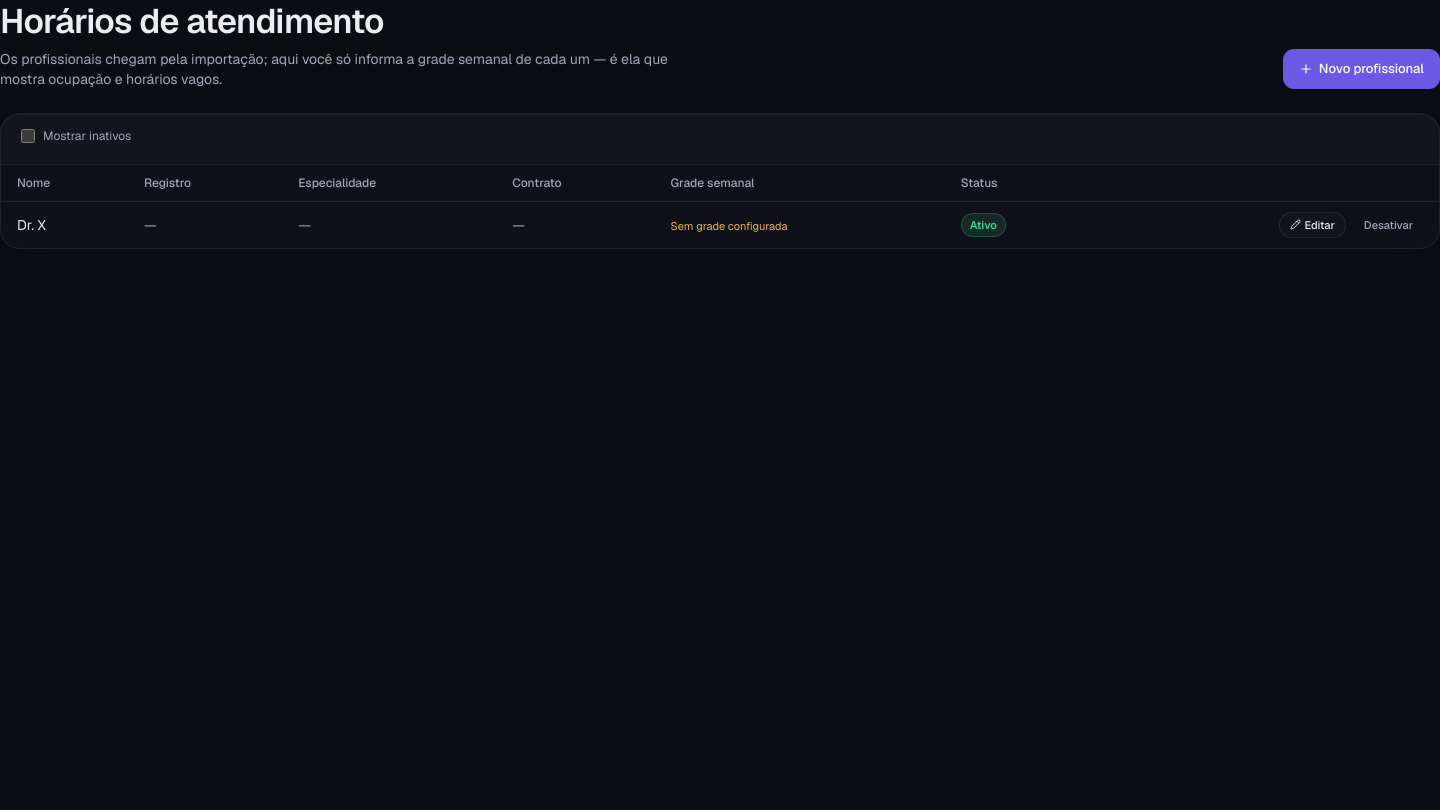
Test: ProfessionalsPage — ausências planejadas › não mostra o editor de ausências ao cadastrar um profissional novo
Click the button "Novo profissional" at (1361, 69), box x1=1283 y1=49 x2=1439 y2=88
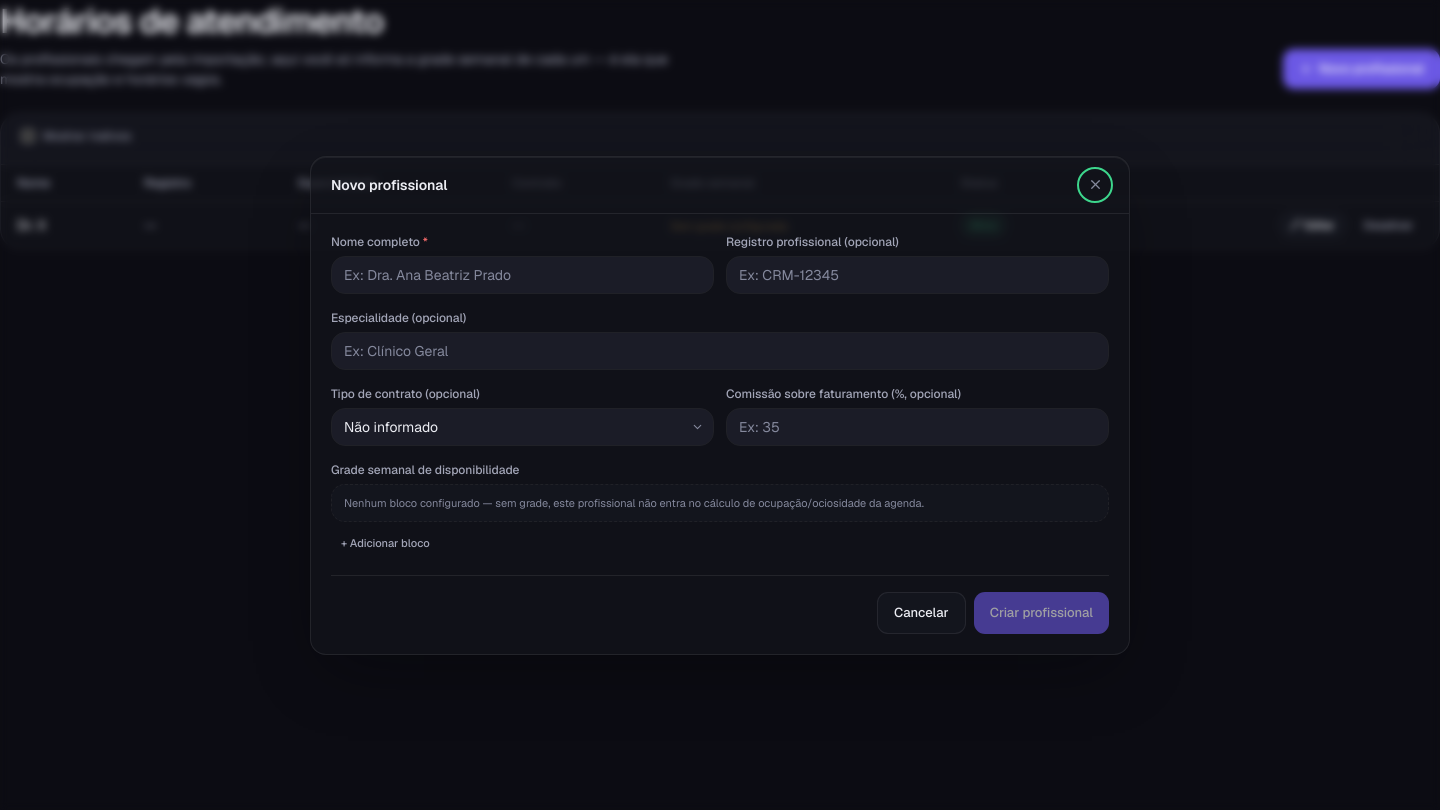
Check: the heading "Novo profissional" is shown, box x1=331 y1=175 x2=447 y2=195
